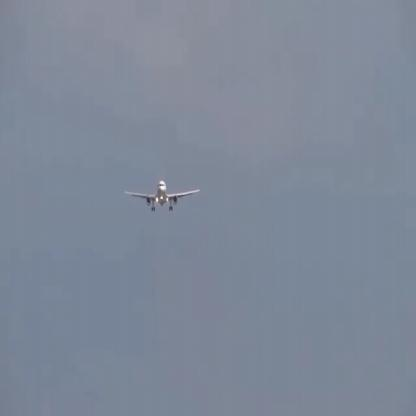CIV_Plane: (124, 180, 202, 212)
